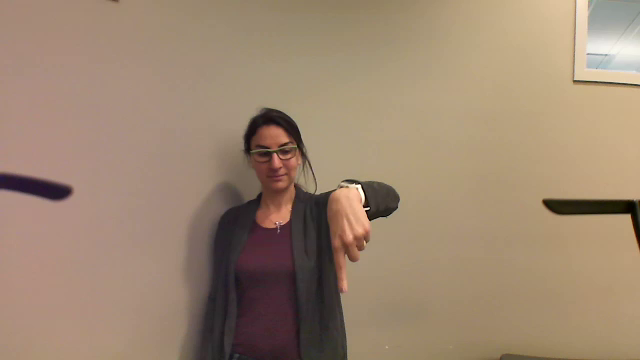down: (318, 178, 381, 307)
